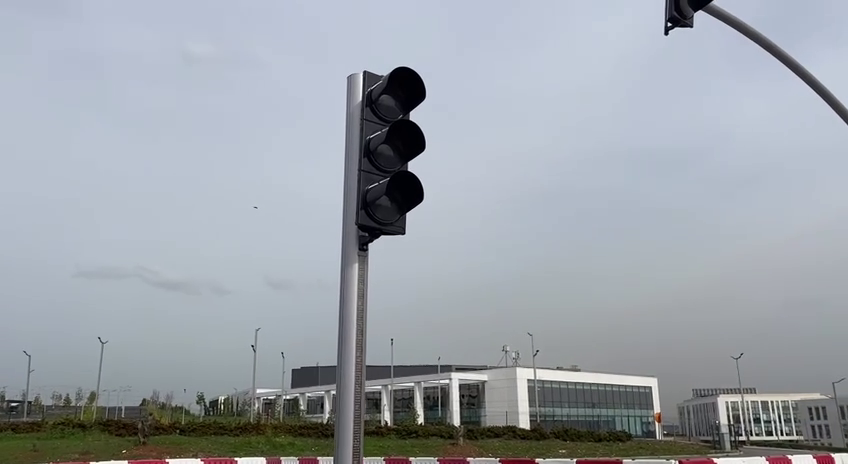trafficLight: (341, 63, 432, 246), (662, 1, 714, 37)
